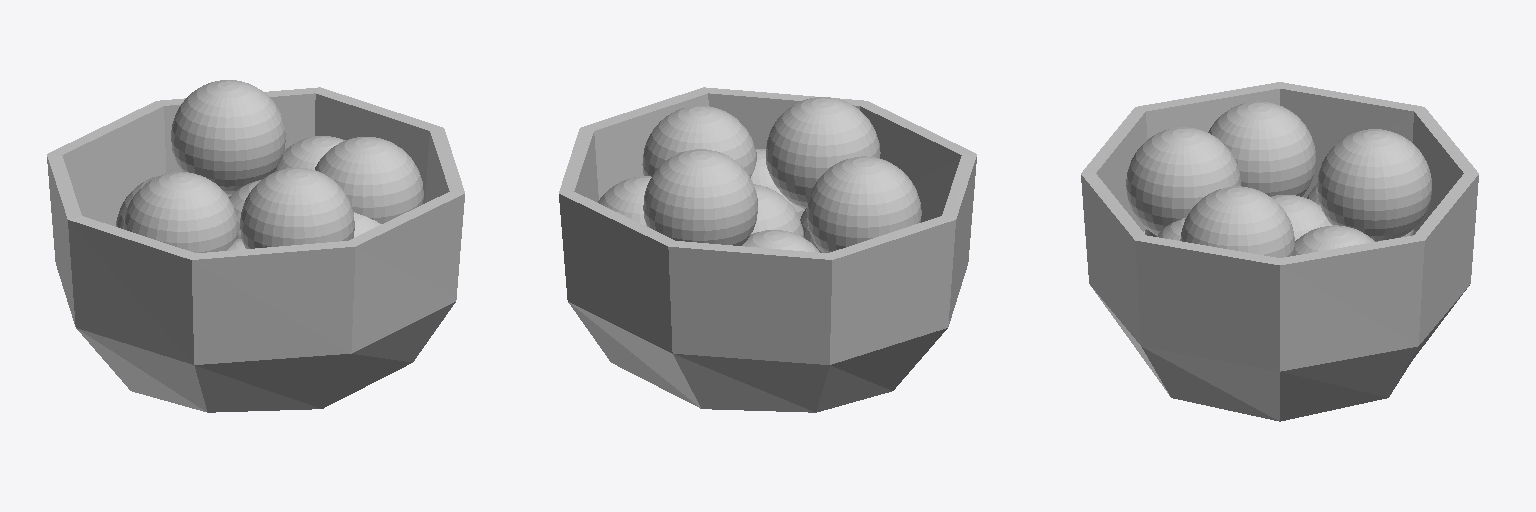
The model's file is kue klepon.obj.
The picture shows the model from 3 angles: view 1: azimuth 30°, elevation 25°; view 2: azimuth 150°, elevation 25°; view 3: azimuth 270°, elevation 25°; orthographic projection.
Visible parts, largest first — view 1: Cube, Sphere.012, Sphere.011, Sphere.010, Sphere.009, Sphere.008; view 2: Cube, Sphere.012, Sphere.010, Sphere.011, Sphere.009, Sphere.006, Sphere.008, Sphere.007, Sphere.004; view 3: Cube, Sphere.012, Sphere.011, Sphere.010, Sphere.009, Sphere.008, Sphere.006.
Part boxes in pixels (bbox=[...]): Cube: bbox=[47, 87, 464, 412]; Sphere.012: bbox=[171, 80, 285, 194]; Sphere.011: bbox=[240, 167, 354, 248]; Sphere.010: bbox=[123, 172, 237, 252]; Sphere.009: bbox=[315, 137, 423, 223]; Sphere.008: bbox=[275, 136, 344, 171]; Cube: bbox=[559, 87, 976, 412]; Sphere.012: bbox=[643, 149, 757, 245]; Sphere.010: bbox=[807, 156, 921, 252]; Sphere.011: bbox=[766, 97, 880, 208]; Sphere.009: bbox=[642, 105, 756, 177]; Sphere.006: bbox=[751, 184, 803, 237]; Sphere.008: bbox=[598, 176, 651, 225]; Sphere.007: bbox=[742, 230, 819, 252]; Sphere.004: bbox=[751, 149, 804, 218]; Cube: bbox=[1081, 82, 1478, 421]; Sphere.012: bbox=[1317, 129, 1431, 241]; Sphere.011: bbox=[1126, 127, 1240, 235]; Sphere.010: bbox=[1208, 101, 1315, 196]; Sphere.009: bbox=[1180, 186, 1294, 257]; Sphere.008: bbox=[1292, 225, 1374, 255]; Sphere.006: bbox=[1272, 195, 1331, 240].
Bounding box in the file's own units: 1.65 × 1.1 × 1.51.